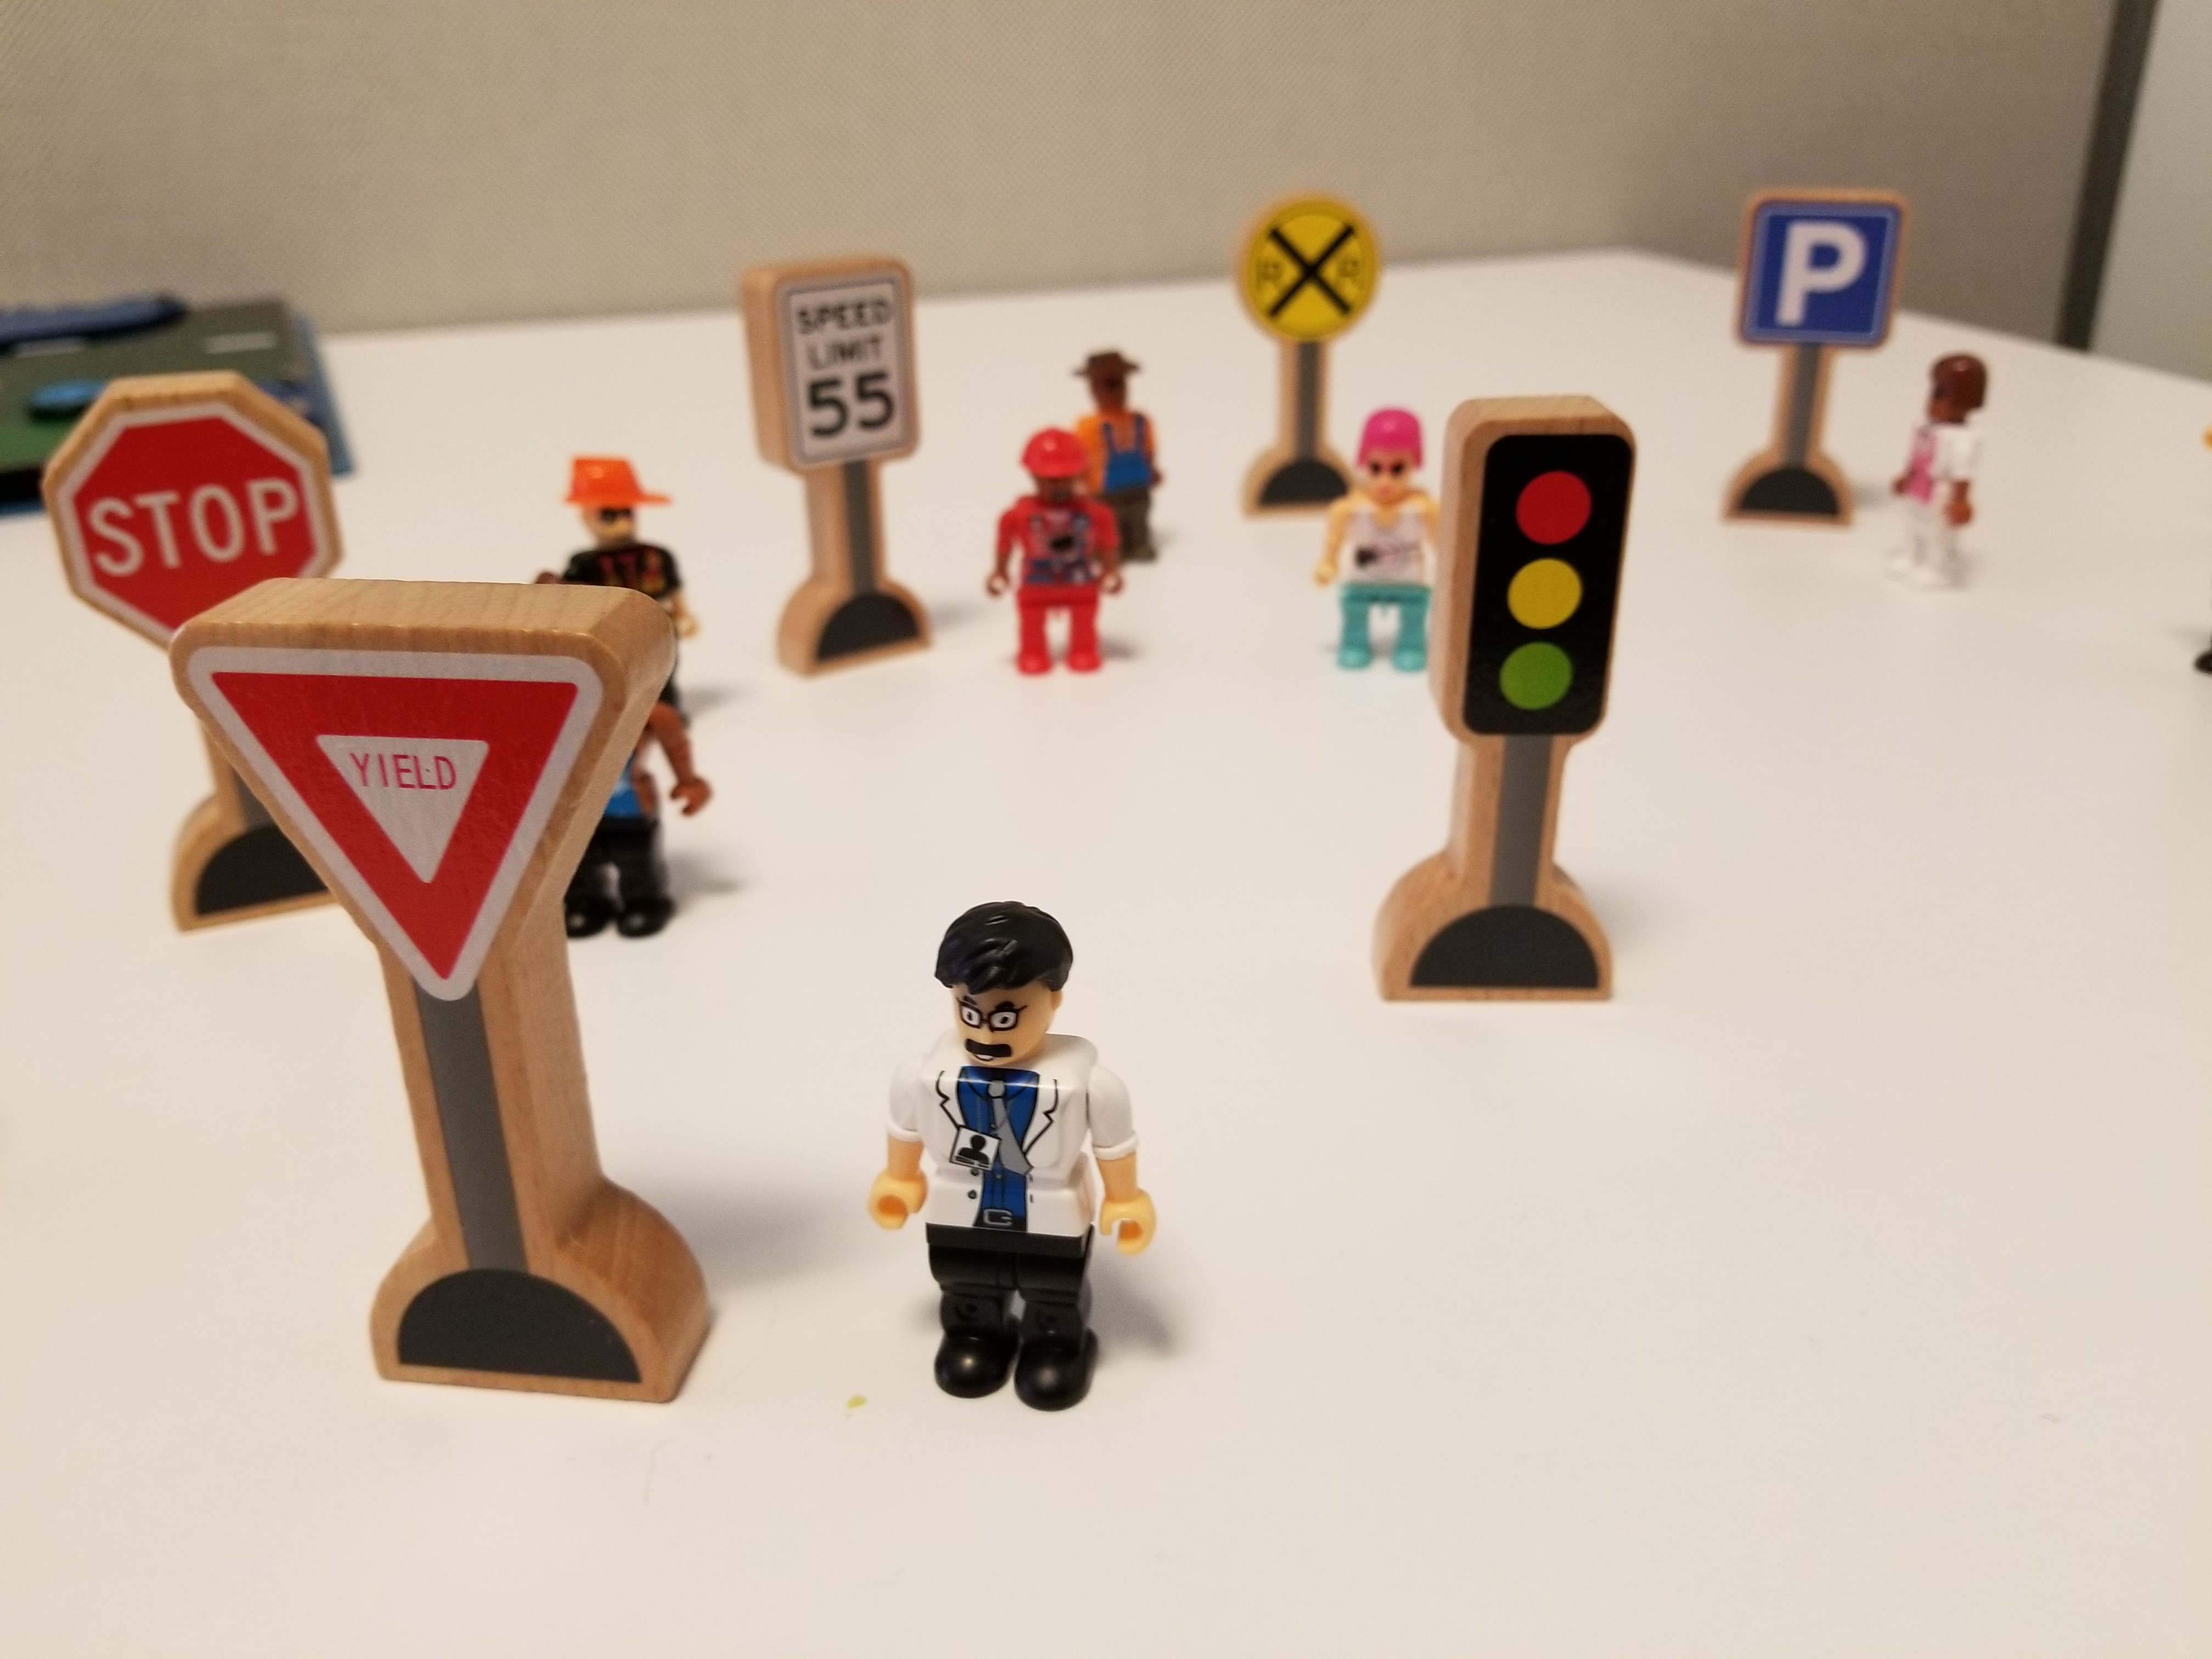Parking: (1722, 144, 1906, 574)
Railroad Crossing: (1221, 172, 1379, 460)
Speed limit 55: (730, 234, 956, 701)
Stop: (36, 370, 350, 605)
Traffic Light: (1443, 374, 1658, 1000)
Yield: (181, 574, 741, 1412)
person: (872, 855, 1171, 1414), (980, 418, 1131, 701), (1318, 411, 1445, 743), (1923, 308, 2009, 666)
